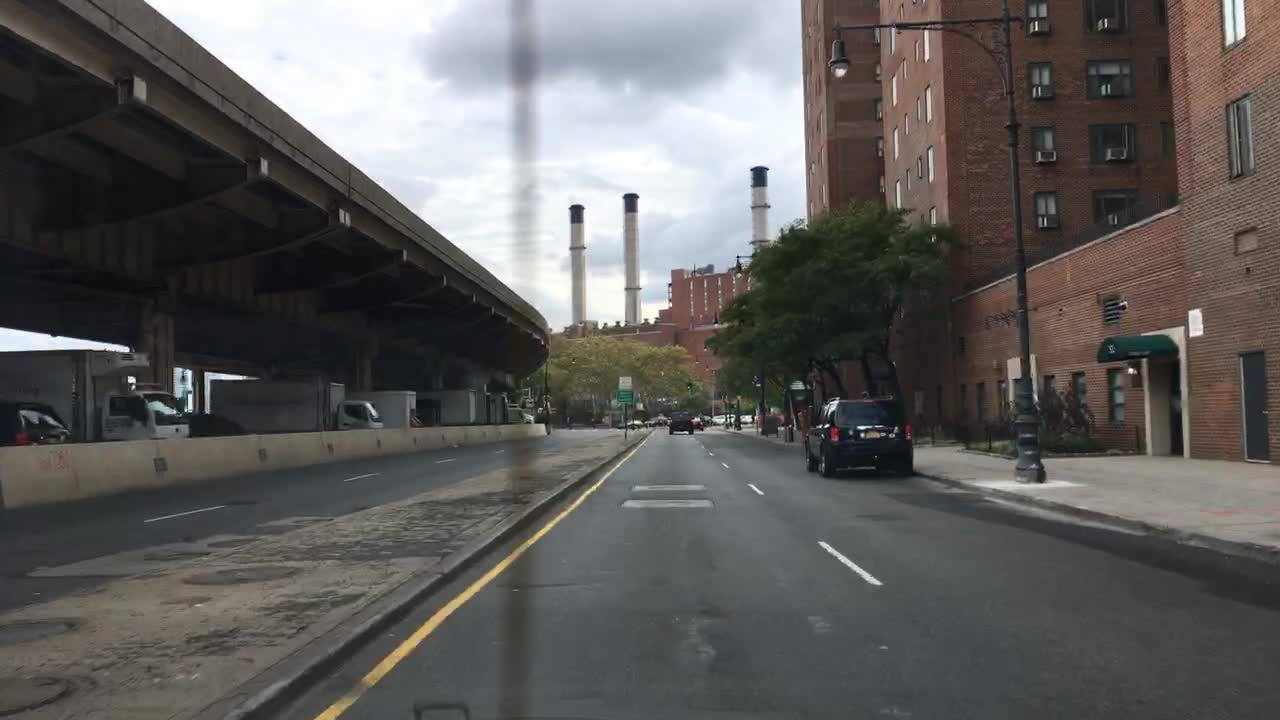car: (802, 389, 915, 478), (0, 398, 77, 446), (182, 407, 247, 440), (666, 412, 696, 434), (618, 416, 641, 428), (650, 414, 670, 426), (706, 414, 729, 424), (691, 414, 706, 428), (734, 413, 754, 423)
traffic sign: (618, 388, 632, 403), (618, 375, 631, 385)
truck: (0, 344, 195, 441), (207, 377, 386, 431), (349, 387, 429, 429), (416, 385, 491, 426), (486, 392, 516, 426), (505, 402, 539, 426)
